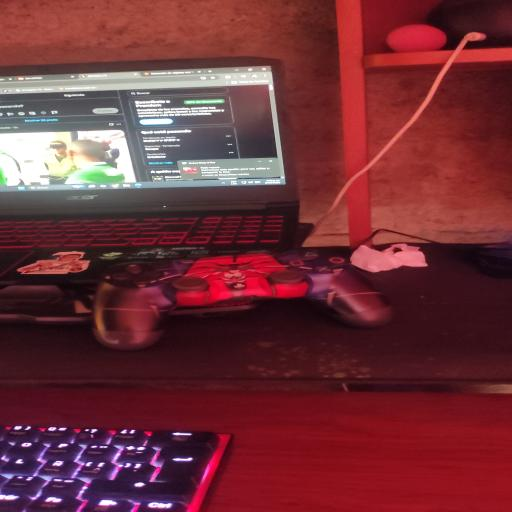ControlPlay4: (92, 249, 391, 350)
